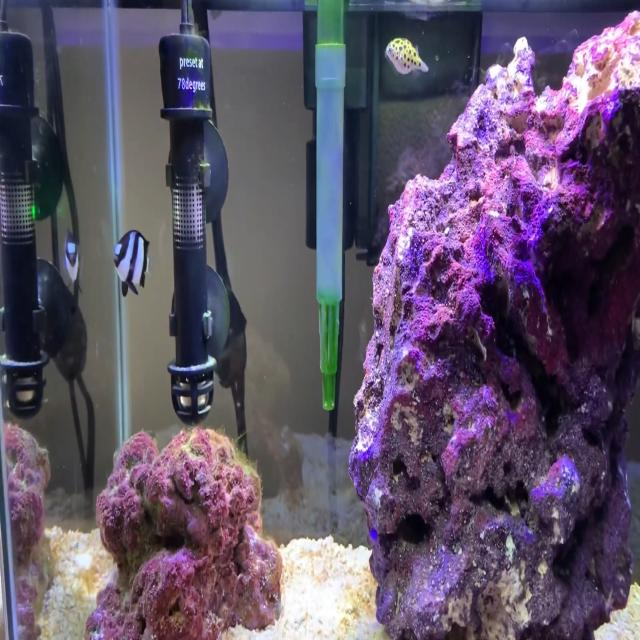ThreeStripedDamselfish: (115, 230, 148, 302)
